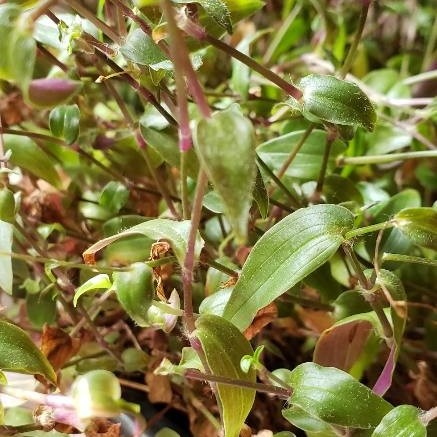obstacle: (80, 66, 403, 399)
